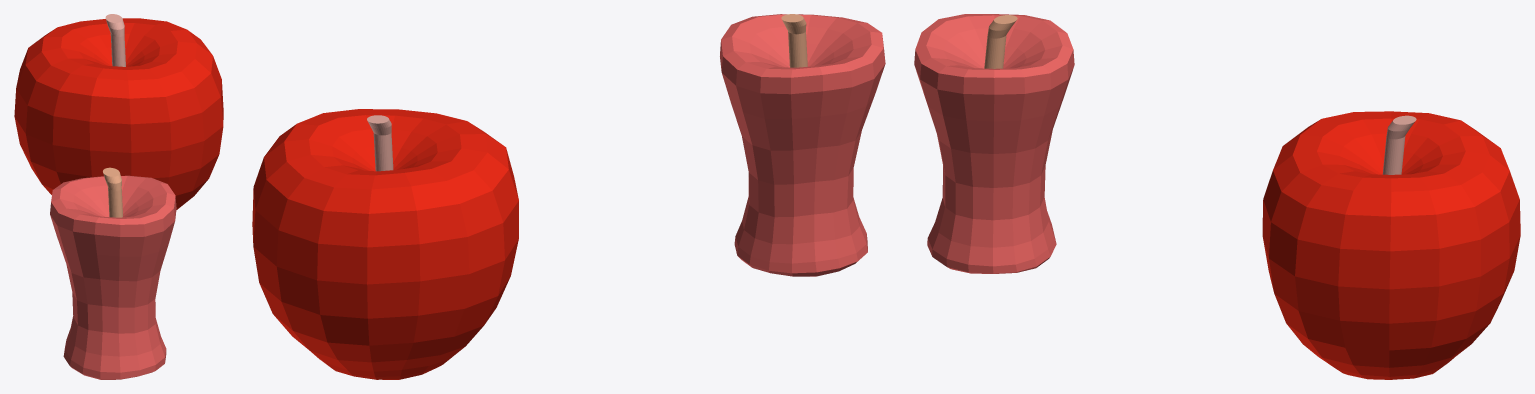
File: Manzana.fbx
3 renders of one model, left to right at view 1: azimuth 30°, elevation 25°; view 2: azimuth 150°, elevation 25°; view 3: azimuth 270°, elevation 25°, orthographic. The views are drawn at different scales.
Parts seen in each view (by area): view 1: Sphere, Sphere.001, Cylinder, Cylinder.001; view 2: Sphere, Sphere.001, Cylinder, Cylinder.001; view 3: Sphere, Sphere.001, Cylinder, Cylinder.001.
Boxes of the visible parts, bbox=[...] form: Sphere: bbox=[14, 18, 223, 209]; Sphere.001: bbox=[50, 175, 176, 379]; Cylinder: bbox=[105, 14, 125, 66]; Cylinder.001: bbox=[103, 167, 122, 217]; Sphere: bbox=[252, 109, 518, 379]; Sphere.001: bbox=[720, 14, 885, 276]; Cylinder: bbox=[367, 115, 393, 171]; Cylinder.001: bbox=[781, 14, 807, 67]; Sphere: bbox=[1262, 111, 1520, 379]; Sphere.001: bbox=[914, 14, 1074, 273]; Cylinder: bbox=[1382, 115, 1416, 174]; Cylinder.001: bbox=[984, 15, 1017, 68].
Bounding box in the file's own units: 278 × 166 × 376.
